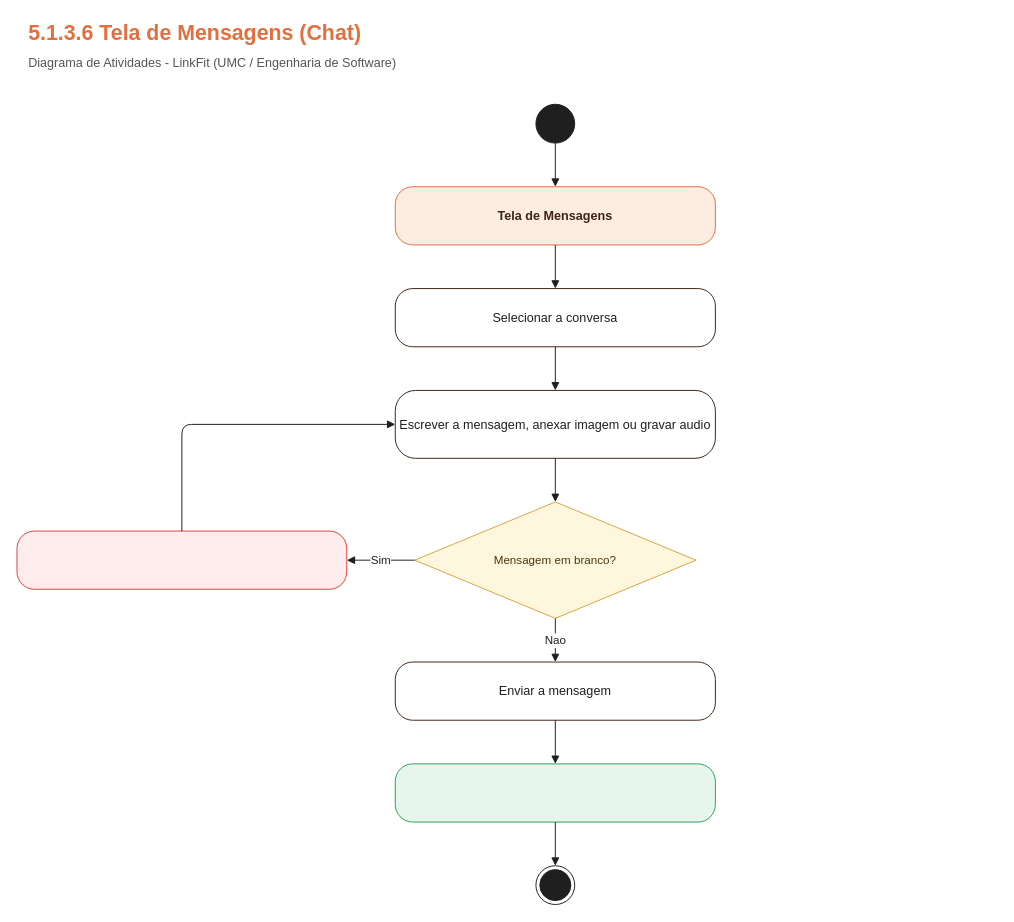
This 1014x922 diagram has some shape labels left out. The centre of each missing label's shape, as x and y in pixels:
"Digitar a mensagem" belongs at (181,559).
"Mensagem exibida na conversa" belongs at (554,792).
